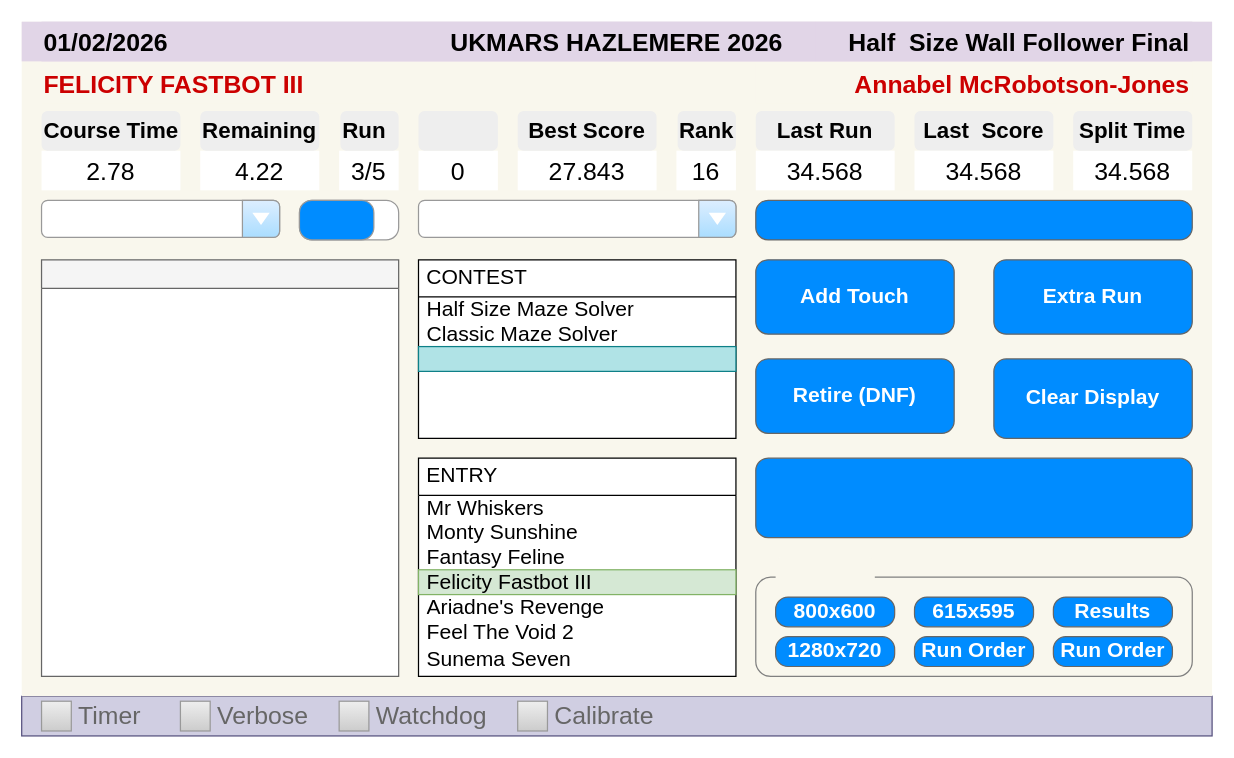
The diagram is 1234 pixels wide and 758 high, and some of its shapes have lost their labels. Here are the shapes that lost their labels. From the top down, the centre of each, then its label:
At (x=457, y=130): "Touch".
At (x=160, y=218): "COM1".
At (x=348, y=219): "ON".
At (x=576, y=218): "Final".
At (x=973, y=219): "MODE".
At (x=576, y=358): "Classic Wall Follower".
At (x=219, y=467): "System Log".
At (x=973, y=497): "New Robot".
At (x=824, y=575): "DISPLAY".
